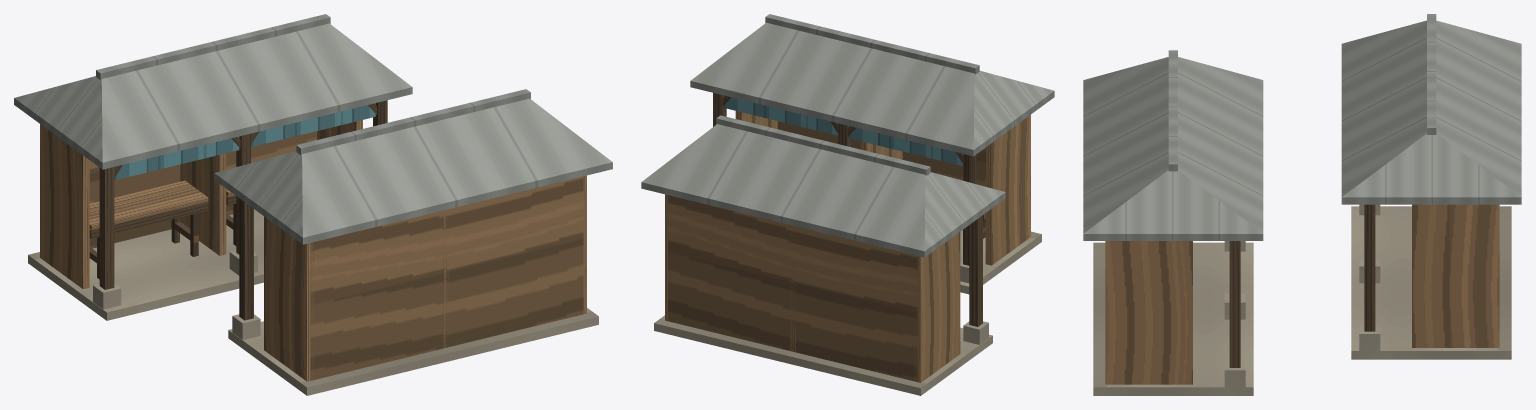
The model's file is port-au-prince.glb.
The picture shows the model from 3 angles, left to right: view 1: azimuth 30°, elevation 25°; view 2: azimuth 150°, elevation 25°; view 3: azimuth 270°, elevation 25°; orthographic projection. The views are drawn at different scales.
Parts seen in each view (by area): view 1: port-au-prince; view 2: port-au-prince; view 3: port-au-prince.
Part boxes in pixels (bbox=[...]): port-au-prince: bbox=[14, 14, 612, 395]; port-au-prince: bbox=[641, 14, 1054, 395]; port-au-prince: bbox=[1083, 14, 1521, 395].
Bounding box in the file's own units: 4.71 × 2.5 × 4.59.
Materials: 1 (1 with a texture image).
